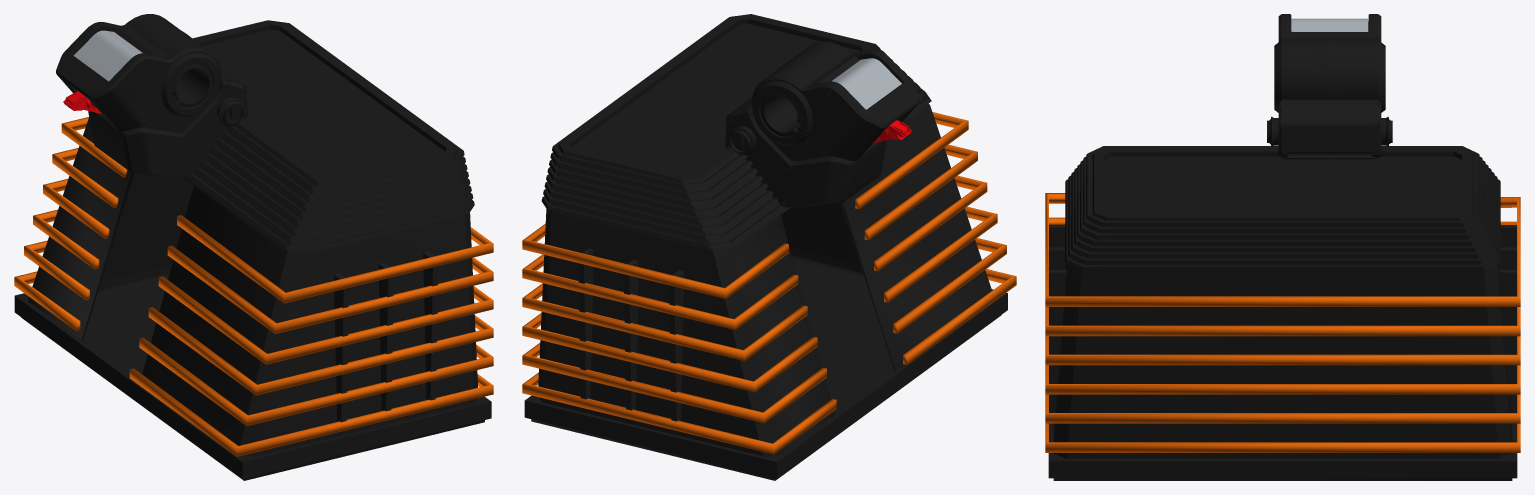
File: assetroom.fbx
3 renders of one model, left to right at view 1: azimuth 30°, elevation 25°; view 2: azimuth 150°, elevation 25°; view 3: azimuth 270°, elevation 25°, orthographic. The views are drawn at different scales.
Visible parts, largest first — view 1: assteroom; view 2: assteroom; view 3: assteroom.
Boxes of the visible parts, bbox=[...] form: assteroom: bbox=[14, 14, 493, 480]; assteroom: bbox=[522, 14, 1016, 480]; assteroom: bbox=[1045, 14, 1520, 480].
Size of the model in its own units: 461 by 521 by 640.
